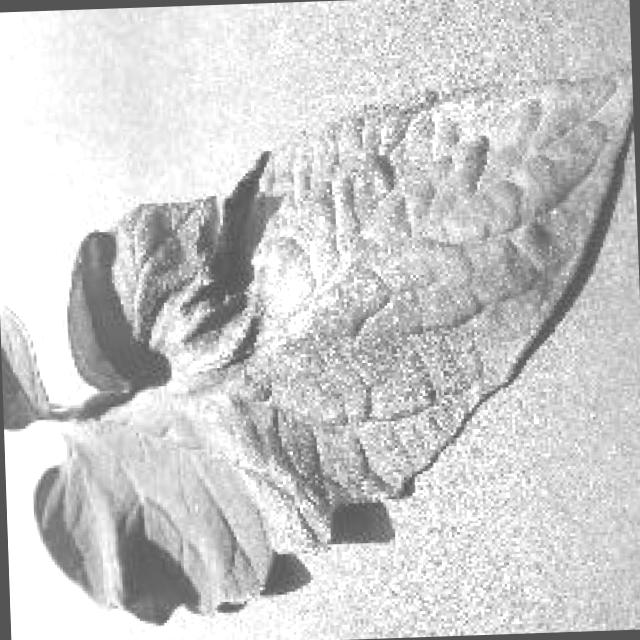leaf blight: (0, 86, 633, 622)
